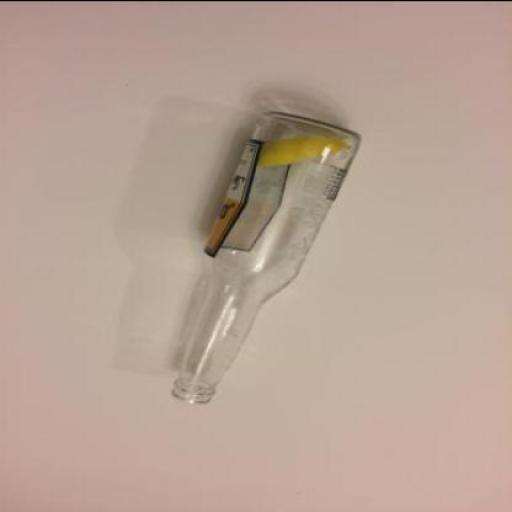glass: (172, 108, 361, 404)
